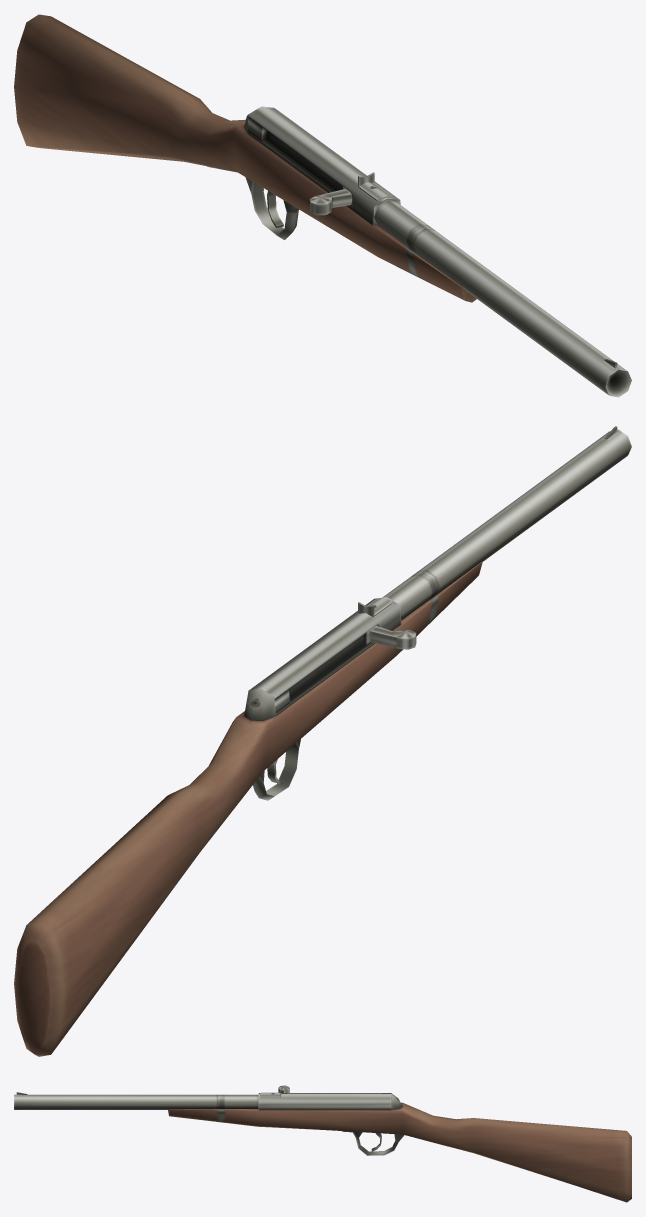
The model's file is jsf_Corkgun_02.fbx.
3 renders of one model, top to bottom at view 1: azimuth 30°, elevation 25°; view 2: azimuth 150°, elevation 25°; view 3: azimuth 270°, elevation 25°, orthographic. The views are drawn at different scales.
Parts seen in each view (by area): view 1: Gun, Lever; view 2: Gun, Lever; view 3: Gun.
Boxes of the visible parts, bbox=[...] form: Gun: bbox=[14, 14, 631, 397]; Lever: bbox=[310, 186, 352, 215]; Gun: bbox=[14, 426, 631, 1056]; Lever: bbox=[364, 625, 416, 649]; Gun: bbox=[14, 1087, 631, 1202].
Size of the model in its own units: 5.63 by 14.91 by 74.1.
